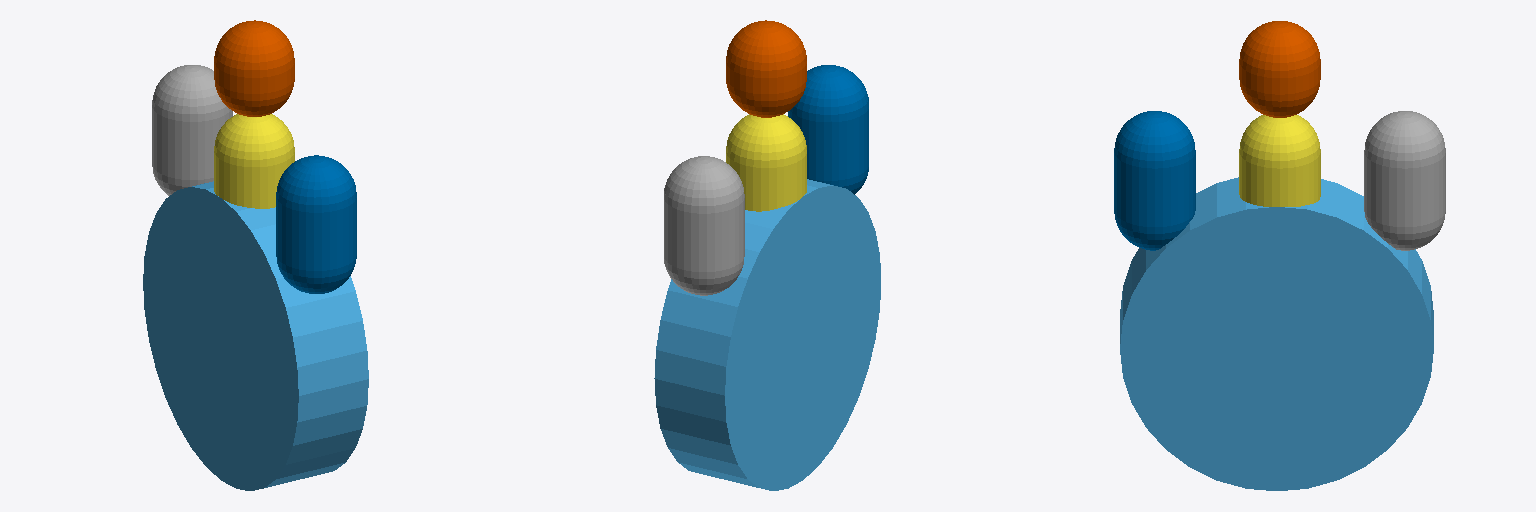
URDF robot description (DexterousHand):
<?xml version="1.0"?>
<robot name="DexterousHand">


    <link name="world"/>
    <joint name="world_to_palm" type="fixed">
        <parent link="world"/>
        <child link="palm"/>
        <origin xyz="0 0 0" rpy="0 0 0"/>
    </joint>
    <link name="palm">
        <inertial>
            <origin xyz="0 0 0.057" rpy="0 0 0"/>
            <mass value="0.30212892864"/>
            <inertia ixx="0.00049080844457568" ixy="0.0" ixz="0.0" iyy="0.00026746366246427523" iyz="0.0" izz="0.00026746366246427523"/>
        </inertial>
        <visual>
            <origin xyz="0 0 0.057" rpy="1.5708 0 1.5708"/>
            <geometry>
                <cylinder radius="0.057" length="0.0296"/>
            </geometry>
            <material name="default"/>
        </visual>
        <collision>
            <origin xyz="0 0 0.057" rpy="1.5708 0 1.5708"/>
            <geometry>
                <cylinder radius="0.057" length="0.0296"/>
            </geometry>
        </collision>
    </link>

    
    <joint name="thumb_joint1" type="revolute">
        <parent link="palm"/>
        <child link="thumb_base"/>
        <origin xyz="0.0 0.0 0.0" rpy="0.0 0.0 0.0"/>
        <axis xyz="1 0 0"/>
        <limit lower="0.0" upper="0.0" effort="1.0" velocity="1.0"/>
    </joint>

    <link name="thumb_base"></link>

    <joint name="thumb_joint2" type="revolute">
        <parent link="thumb_base"/>
        <child link="thumb_proximal"/>
        <origin xyz="0.0 0.0 0.0" rpy="0.0 0.0 0.0"/>
        <axis xyz="0 1 0"/>
        <limit lower="0.0" upper="0.0" effort="1.0" velocity="1.0"/>
    </joint>

    <link name="thumb_proximal">
    </link>

    <joint name="thumb_joint3" type="revolute">
        <parent link="thumb_proximal"/>
        <child link="thumb_knuckle"/>
        <origin xyz="0.0 0.0 0.0" rpy="0.0 0.0 0.0"/>
        <axis xyz="1 0 0"/>
        <limit lower="0.0" upper="0.0" effort="1.0" velocity="1.0"/>
    </joint>

    <link name="thumb_knuckle"></link>

    <joint name="thumb_joint4" type="revolute">
        <parent link="thumb_knuckle"/>
        <child link="thumb_middle"/>
        <origin xyz="0 0 0" rpy="0 0 0"/> 
        <axis xyz="0 1 0"/>
        <limit lower="0.0" upper="0.0" effort="1.0" velocity="1.0"/>
    </joint>

    <link name="thumb_middle">
    </link>

    <joint name="thumb_joint5" type="revolute">
        <parent link="thumb_middle"/>
        <child link="thumb_distal"/>
        <origin xyz="0 0 0" rpy="0 0 0"/> 
        <axis xyz="0 1 0"/>
        <limit lower="0.0" upper="0.0" effort="1.0" velocity="1.0"/>
    </joint>

    <link name="thumb_distal">
    </link>

    
    <joint name="index_joint1" type="revolute">
        <parent link="palm"/>
        <child link="index_proximal"/>
        <origin xyz="0.0 0.0465 0.091" rpy="0.0 0.0 0.0"/>
        <axis xyz="0 1 0"/>
        <limit lower="-0.314" upper="2.23" effort="1.0" velocity="1.0"/>
    </joint>

    <link name="index_proximal">
        <inertial>
            <origin xyz="0 0 0.02655" rpy="0 0 0"/>
            <mass value="0.036540024998400006"/>
            <inertia ixx="1.058665009272394e-05" ixy="0.0" ixz="0.0" 
            iyy="1.058665009272394e-05" iyz="0.0" izz="4.001863537824769e-06"/>
        </inertial>
        <visual>
            <origin xyz="0 0 0.02655" rpy="0 0 0"/>
            <geometry>
                <cylinder radius="0.0148" length="0.0235"/>
            </geometry>
            <material name="default"/>
        </visual>
        <visual>
            <origin xyz="0 0 0.0148" rpy="0 0 0"/>
            <geometry>
                <sphere radius="0.0148"/>
            </geometry>
            <material name="default"/>
        </visual>
        <visual>
            <origin xyz="0 0 0.0383" rpy="0 0 0"/>
            <geometry>
                <sphere radius="0.0148"/>
            </geometry>
            <material name="default"/>
        </visual>
        <collision>
            <origin xyz="0 0 0.02655" rpy="0 0 0"/>
            <geometry>
                <cylinder radius="0.0148" length="0.0235"/>
            </geometry>
        </collision>
        <collision>
            <origin xyz="0 0 0.0148" rpy="0 0 0"/>
            <geometry>
                <sphere radius="0.0148"/>
            </geometry>
        </collision>
        <collision>
            <origin xyz="0 0 0.0383" rpy="0 0 0"/>
            <geometry>
                <sphere radius="0.0148"/>
            </geometry>
        </collision>
    </link>

    <joint name="index_joint2" type="revolute">
        <parent link="index_proximal"/>
        <child link="index_dummy"/>
        <origin xyz="0.0 0.0 0.038" rpy="0.0 0.0 0.0"/>
        <axis xyz="0 1 0"/>
        <limit lower="0.0" upper="0.0" effort="1.0" velocity="1.0"/>
    </joint>

    <link name="index_dummy"></link>

    <joint name="index_joint3" type="revolute">
        <parent link="index_dummy"/>
        <child link="index_middle"/>
        <origin xyz="0 0 0.015100000000000002" rpy="0 0 0"/>
        <axis xyz="0 1 0"/>
        <limit lower="0.0" upper="0.0" effort="1.0" velocity="1.0"/>
    </joint>

    <link name="index_middle">
    </link>

    <joint name="index_joint4" type="revolute">
        <parent link="index_middle"/>
        <child link="index_distal"/>
        <origin xyz="0 0 0" rpy="0 0 0"/> 
        <axis xyz="0 1 0"/>
        <limit lower="0.0" upper="0.0" effort="1.0" velocity="1.0"/>
    </joint>

    <link name="index_distal">
    </link>

    
    <joint name="middle_joint1" type="revolute">
        <parent link="palm"/>
        <child link="middle_proximal"/>
        <origin xyz="0.0 0.0011 0.091" rpy="0.0 0.0 0.0"/>
        <axis xyz="0 1 0"/>
        <limit lower="-0.314" upper="2.23" effort="1.0" velocity="1.0"/>
    </joint>

    <link name="middle_proximal">
        <inertial>
            <origin xyz="0 0 0.02655" rpy="0 0 0"/>
            <mass value="0.036540024998400006"/>
            <inertia ixx="1.058665009272394e-05" ixy="0.0" ixz="0.0" 
            iyy="1.058665009272394e-05" iyz="0.0" izz="4.001863537824769e-06"/>
        </inertial>
        <visual>
            <origin xyz="0 0 0.02655" rpy="0 0 0"/>
            <geometry>
                <cylinder radius="0.0148" length="0.0235"/>
            </geometry>
            <material name="default"/>
        </visual>
        <visual>
            <origin xyz="0 0 0.0148" rpy="0 0 0"/>
            <geometry>
                <sphere radius="0.0148"/>
            </geometry>
            <material name="default"/>
        </visual>
        <visual>
            <origin xyz="0 0 0.0383" rpy="0 0 0"/>
            <geometry>
                <sphere radius="0.0148"/>
            </geometry>
            <material name="default"/>
        </visual>
        <collision>
            <origin xyz="0 0 0.02655" rpy="0 0 0"/>
            <geometry>
                <cylinder radius="0.0148" length="0.0235"/>
            </geometry>
        </collision>
        <collision>
            <origin xyz="0 0 0.0148" rpy="0 0 0"/>
            <geometry>
                <sphere radius="0.0148"/>
            </geometry>
        </collision>
        <collision>
            <origin xyz="0 0 0.0383" rpy="0 0 0"/>
            <geometry>
                <sphere radius="0.0148"/>
            </geometry>
        </collision>
    </link>

    <joint name="middle_joint2" type="revolute">
        <parent link="middle_proximal"/>
        <child link="middle_dummy"/>
        <origin xyz="0.0 0.0 0.038" rpy="0.0 0.0 0.0"/>
        <axis xyz="1 0 0"/>
        <limit lower="-1.047" upper="1.047" effort="1.0" velocity="1.0"/>
    </joint>

    <link name="middle_dummy"></link>

    <joint name="middle_joint3" type="revolute">
        <parent link="middle_dummy"/>
        <child link="middle_middle"/>
        <origin xyz="0 0 0.015100000000000002" rpy="0 0 0"/>
        <axis xyz="0 1 0"/>
        <limit lower="-0.506" upper="1.885" effort="1.0" velocity="1.0"/>
    </joint>

    <link name="middle_middle">
        <inertial>
            <origin xyz="0 0 0.01805" rpy="0 0 0"/>
            <mass value="0.0248417119104"/>
            <inertia ixx="4.058162759109537e-06" ixy="0.0" ixz="0.0" 
            iyy="4.058162759109537e-06" iyz="0.0" izz="2.7206642884270085e-06"/>
        </inertial>
        <visual>
            <origin xyz="0 0 0.01805" rpy="0 0 0"/>
            <geometry>
                <cylinder radius="0.0148" length="0.006499999999999999"/>
            </geometry>
            <material name="default"/>
        </visual>
        <visual>
            <origin xyz="0 0 0.0148" rpy="0 0 0"/>
            <geometry>
                <sphere radius="0.0148"/>
            </geometry>
            <material name="default"/>
        </visual>
        <visual>
            <origin xyz="0 0 0.0213" rpy="0 0 0"/>
            <geometry>
                <sphere radius="0.0148"/>
            </geometry>
            <material name="default"/>
        </visual>
        <collision>
            <origin xyz="0 0 0.01805" rpy="0 0 0"/>
            <geometry>
                <cylinder radius="0.0148" length="0.006499999999999999"/>
            </geometry>
        </collision>
        <collision>
            <origin xyz="0 0 0.0148" rpy="0 0 0"/>
            <geometry>
                <sphere radius="0.0148"/>
            </geometry>
        </collision>
        <collision>
            <origin xyz="0 0 0.0213" rpy="0 0 0"/>
            <geometry>
                <sphere radius="0.0148"/>
            </geometry>
        </collision>
    </link>

    <joint name="middle_joint4" type="revolute">
        <parent link="middle_middle"/>
        <child link="middle_distal"/>
        <origin xyz="0 0 0.0361" rpy="0 0 0"/> 
        <axis xyz="0 1 0"/>
        <limit lower="0.0" upper="0.0" effort="1.0" velocity="1.0"/>
    </joint>

    <link name="middle_distal">
    </link>

    
    <joint name="ring_joint1" type="revolute">
        <parent link="palm"/>
        <child link="ring_proximal"/>
        <origin xyz="0.0 0.0 0.0" rpy="0.0 0.0 0.0"/>
        <axis xyz="1 0 0"/>
        <limit lower="0.0" upper="0.0" effort="1.0" velocity="1.0"/>
    </joint>

    <link name="ring_proximal">
    </link>

    <joint name="ring_joint2" type="revolute">
        <parent link="ring_proximal"/>
        <child link="ring_dummy"/>
        <origin xyz="0.0 0.0 0.0" rpy="0.0 0.0 0.0"/>
        <axis xyz="0 1 0"/>
        <limit lower="0.0" upper="0.0" effort="1.0" velocity="1.0"/>
    </joint>

    <link name="ring_dummy"></link>

    <joint name="ring_joint3" type="revolute">
        <parent link="ring_dummy"/>
        <child link="ring_middle"/>
        <origin xyz="0 0 0" rpy="0 0 0"/>
        <axis xyz="0 1 0"/>
        <limit lower="0.0" upper="0.0" effort="1.0" velocity="1.0"/>
    </joint>

    <link name="ring_middle">
    </link>

    <joint name="ring_joint4" type="revolute">
        <parent link="ring_middle"/>
        <child link="ring_distal"/>
        <origin xyz="0 0 0" rpy="0 0 0"/> 
        <axis xyz="0 1 0"/>
        <limit lower="0.0" upper="0.0" effort="1.0" velocity="1.0"/>
    </joint>

    <link name="ring_distal">
    </link>

    
    <joint name="little_joint0" type="revolute">
        <parent link="palm"/>
        <child link="little_base"/>
        <origin xyz="0.0 0.0 0.0" rpy="0.0 0.0 0.0"/>
        <axis xyz="0 1 0"/>
        <limit lower="0.0" upper="0.0" effort="1.0" velocity="1.0"/>
    </joint>

    <link name="little_base"></link>

    <joint name="little_joint1" type="revolute">
        <parent link="little_base"/>
        <child link="little_proximal"/>
        <origin xyz="0.0 -0.0443 0.091" rpy="-0.0 -0.0 -0.0"/>
        <axis xyz="0 1 0"/>
        <limit lower="-0.314" upper="2.23" effort="1.0" velocity="1.0"/>
    </joint>

    <link name="little_proximal">
        <inertial>
            <origin xyz="0 0 0.02655" rpy="0 0 0"/>
            <mass value="0.036540024998400006"/>
            <inertia ixx="1.058665009272394e-05" ixy="0.0" ixz="0.0" 
            iyy="1.058665009272394e-05" iyz="0.0" izz="4.001863537824769e-06"/>
        </inertial>
        <visual>
            <origin xyz="0 0 0.02655" rpy="0 0 0"/>
            <geometry>
                <cylinder radius="0.0148" length="0.0235"/>
            </geometry>
            <material name="default"/>
        </visual>
        <visual>
            <origin xyz="0 0 0.0148" rpy="0 0 0"/>
            <geometry>
                <sphere radius="0.0148"/>
            </geometry>
            <material name="default"/>
        </visual>
        <visual>
            <origin xyz="0 0 0.0383" rpy="0 0 0"/>
            <geometry>
                <sphere radius="0.0148"/>
            </geometry>
            <material name="default"/>
        </visual>
        <collision>
            <origin xyz="0 0 0.02655" rpy="0 0 0"/>
            <geometry>
                <cylinder radius="0.0148" length="0.0235"/>
            </geometry>
        </collision>
        <collision>
            <origin xyz="0 0 0.0148" rpy="0 0 0"/>
            <geometry>
                <sphere radius="0.0148"/>
            </geometry>
        </collision>
        <collision>
            <origin xyz="0 0 0.0383" rpy="0 0 0"/>
            <geometry>
                <sphere radius="0.0148"/>
            </geometry>
        </collision>
    </link>

    <joint name="little_joint2" type="revolute">
        <parent link="little_proximal"/>
        <child link="little_dummy"/>
        <origin xyz="0.0 0.0 0.038" rpy="0.0 0.0 0.0"/>
        <axis xyz="0 1 0"/>
        <limit lower="0.0" upper="0.0" effort="1.0" velocity="1.0"/>
    </joint>

    <link name="little_dummy"></link>

    <joint name="little_joint3" type="revolute">
        <parent link="little_dummy"/>
        <child link="little_middle"/>
        <origin xyz="0 0 0.015100000000000002" rpy="0 0 0"/>
        <axis xyz="0 1 0"/>
        <limit lower="0.0" upper="0.0" effort="1.0" velocity="1.0"/>
    </joint>

    <link name="little_middle">
    </link>

    <joint name="little_joint4" type="revolute">
        <parent link="little_middle"/>
        <child link="little_distal"/>
        <origin xyz="0 0 0" rpy="0 0 0"/>
        <axis xyz="0 1 0"/>
        <limit lower="0.0" upper="0.0" effort="1.0" velocity="1.0"/>
    </joint>

    <link name="little_distal">
    </link>

</robot>

--- Render facts (derived) ---
3 views of the same robot in one strip: view 1: azimuth 30°, elevation 25°; view 2: azimuth 150°, elevation 25°; view 3: azimuth 270°, elevation 25° (orthographic).
Model DexterousHand with 24 links and 23 joints (22 revolute, 1 fixed), rooted at world, posed every joint at zero.
Links seen in each view (by area): view 1: palm, little_proximal, index_proximal, middle_middle, middle_proximal; view 2: palm, index_proximal, little_proximal, middle_middle, middle_proximal; view 3: palm, index_proximal, little_proximal, middle_proximal, middle_middle.
Boxes of the visible links, left/top/right/bottom form: palm: left=143, top=181, right=368, bottom=490; little_proximal: left=276, top=155, right=356, bottom=293; index_proximal: left=152, top=65, right=232, bottom=195; middle_middle: left=214, top=20, right=294, bottom=116; middle_proximal: left=214, top=114, right=294, bottom=208; palm: left=654, top=179, right=880, bottom=490; index_proximal: left=664, top=156, right=744, bottom=295; little_proximal: left=788, top=65, right=868, bottom=194; middle_middle: left=726, top=20, right=806, bottom=117; middle_proximal: left=726, top=114, right=806, bottom=211; palm: left=1120, top=177, right=1433, bottom=490; index_proximal: left=1364, top=111, right=1445, bottom=250; little_proximal: left=1114, top=111, right=1195, bottom=250; middle_proximal: left=1239, top=115, right=1320, bottom=206; middle_middle: left=1239, top=21, right=1320, bottom=117.
Bounding box of the posed robot: 0.0296 × 0.1204 × 0.1802 m (x, y, z).
Geometry: primitives only (box / cylinder / sphere), no mesh files.
